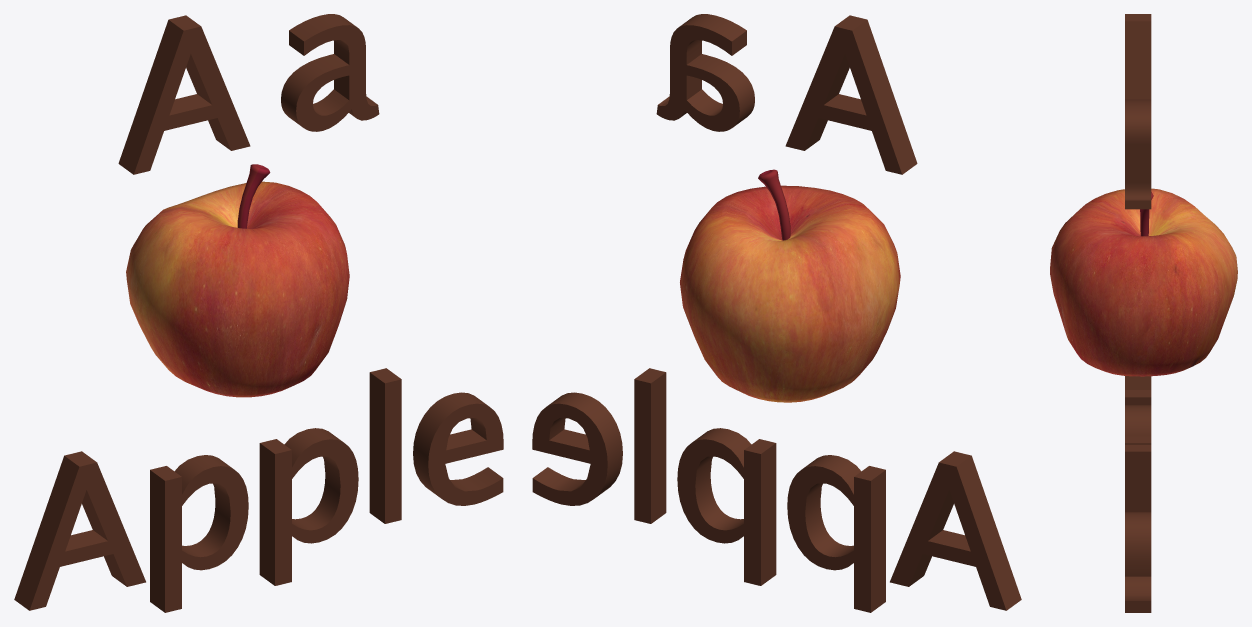
Rendered from apple_textured.fbx.
3 views of the same model, side by side, from view 1: azimuth 30°, elevation 25°; view 2: azimuth 150°, elevation 25°; view 3: azimuth 270°, elevation 25° (orthographic). The views are drawn at different scales.
Parts seen in each view (by area): view 1: A, Cube1; view 2: A, Cube1; view 3: Cube1, A.
Boxes of the visible parts, left/top/right/bottom form: A: left=14, top=14, right=503, bottom=612; Cube1: left=126, top=164, right=349, bottom=397; A: left=532, top=14, right=1021, bottom=612; Cube1: left=680, top=169, right=900, bottom=402; Cube1: left=1050, top=188, right=1237, bottom=376; A: left=1125, top=14, right=1151, bottom=612.
Size of the model in its own units: 91.92 by 107 by 36.61.
Materials: 2 (1 with a texture image).
